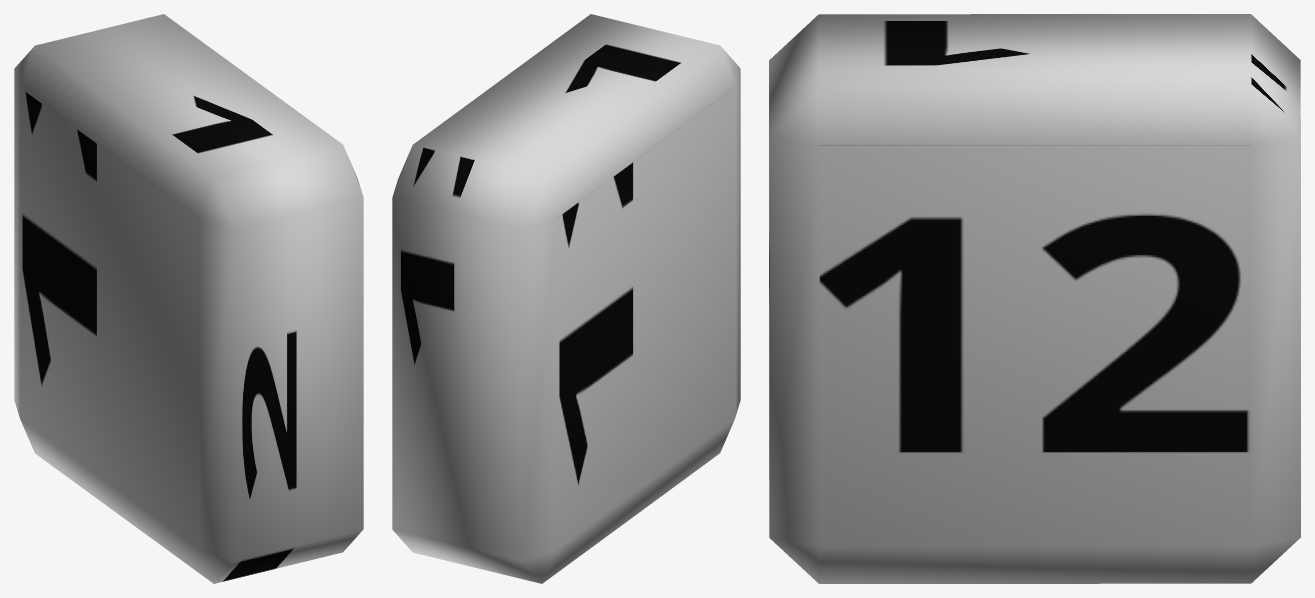
The model's file is Boton12.fbx.
3 renders of one model, left to right at view 1: azimuth 30°, elevation 25°; view 2: azimuth 150°, elevation 25°; view 3: azimuth 270°, elevation 25°, orthographic. The views are drawn at different scales.
Visible parts, largest first — view 1: Boton12; view 2: Boton12; view 3: Boton12.
Boxes of the visible parts, x1,y1,x2,y2 form: Boton12: (14,14,363,583); Boton12: (392,14,740,583); Boton12: (769,14,1300,583).
Size of the model in its own units: 1.36 by 3.32 by 3.25.
